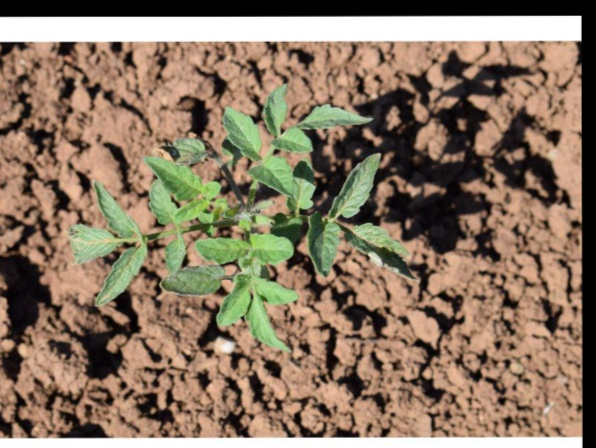tomato: (66, 80, 416, 353)
